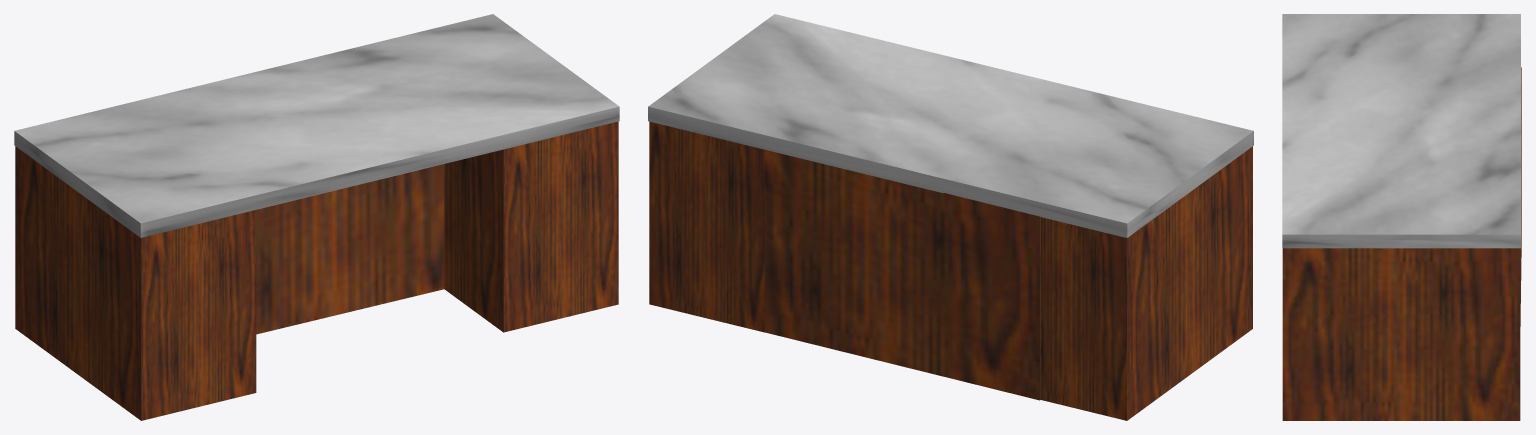
The model's file is Bar_WhiteMarble.glb.
3 views of the same model, side by side, from view 1: azimuth 30°, elevation 25°; view 2: azimuth 150°, elevation 25°; view 3: azimuth 270°, elevation 25° (orthographic). The views are drawn at different scales.
Visible parts, largest first — view 1: Cube; view 2: Cube; view 3: Cube.
Boxes of the visible parts, x1=… form: Cube: x1=14, y1=14, x2=619, y2=420; Cube: x1=648, y1=14, x2=1253, y2=420; Cube: x1=1282, y1=14, x2=1521, y2=420.
Bounding box in the file's own units: 2.88 × 1.14 × 1.32.
Materials: 4 (4 with a texture image).
